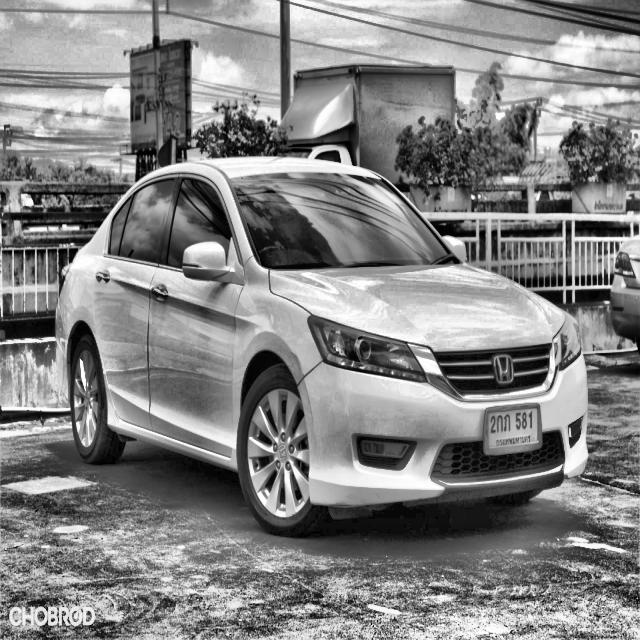license-plate: (481, 400, 547, 457)
